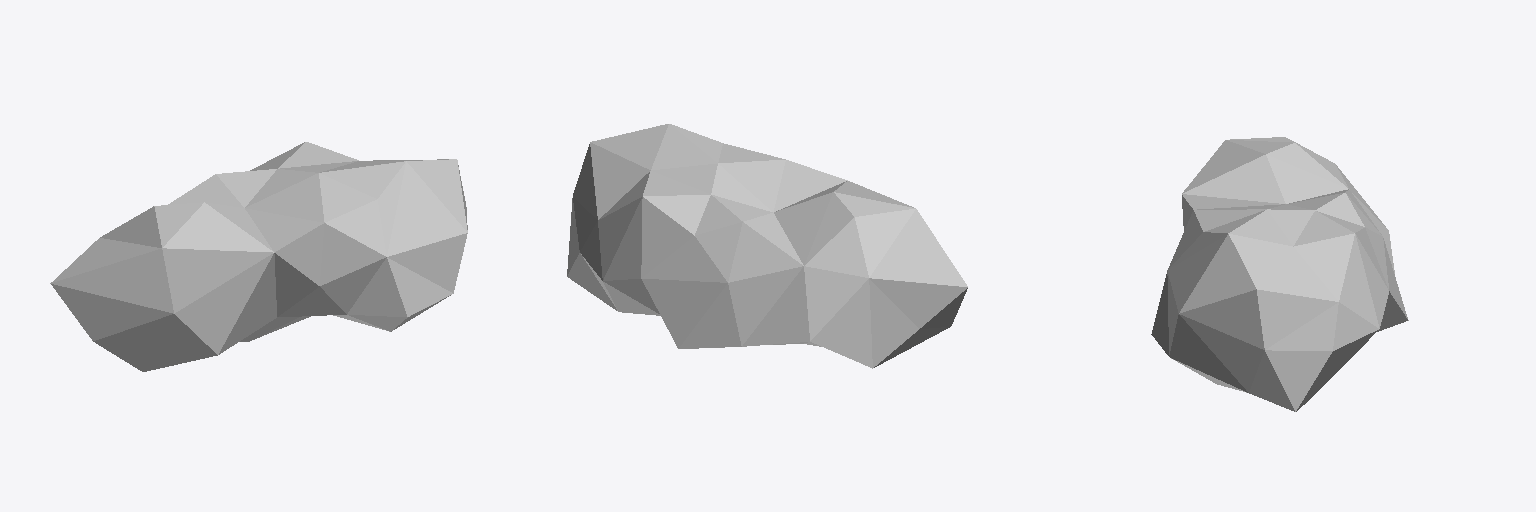
Rendered from bender.obj.
3 views of the same model, side by side, from view 1: azimuth 30°, elevation 25°; view 2: azimuth 150°, elevation 25°; view 3: azimuth 270°, elevation 25° (orthographic).
Parts seen in each view (by area): view 1: Icosphere.002_Icosphere.003; view 2: Icosphere.002_Icosphere.003; view 3: Icosphere.002_Icosphere.003.
Boxes of the visible parts, x1,y1,x2,y2 form: Icosphere.002_Icosphere.003: [50, 142, 467, 371]; Icosphere.002_Icosphere.003: [567, 124, 967, 368]; Icosphere.002_Icosphere.003: [1151, 137, 1408, 411].
Size of the model in its own units: 3.94 by 1.55 by 2.16.